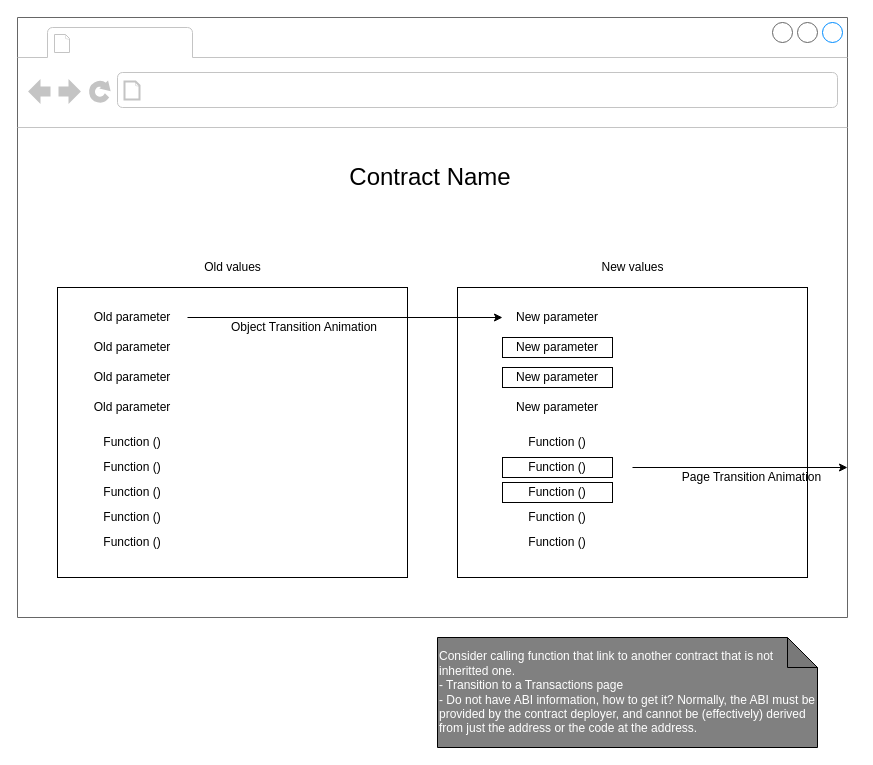
Image size: 873x765. Some labels were removed from this diagram. The shapes that lost their labels are listed below. From the top down, each one's centre as x and y in pixels, then its label:
At (x=132, y=42): "Page 1".
At (x=272, y=90): "https://www.draw.io".
